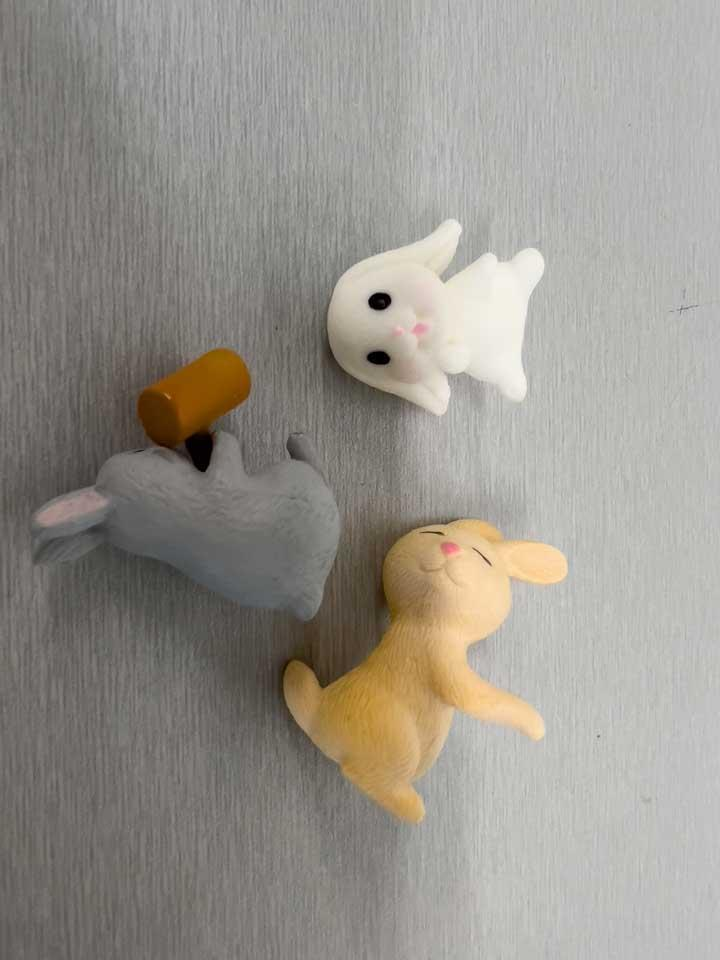pet: (282, 518, 562, 830), (35, 352, 343, 622), (326, 216, 544, 418)
